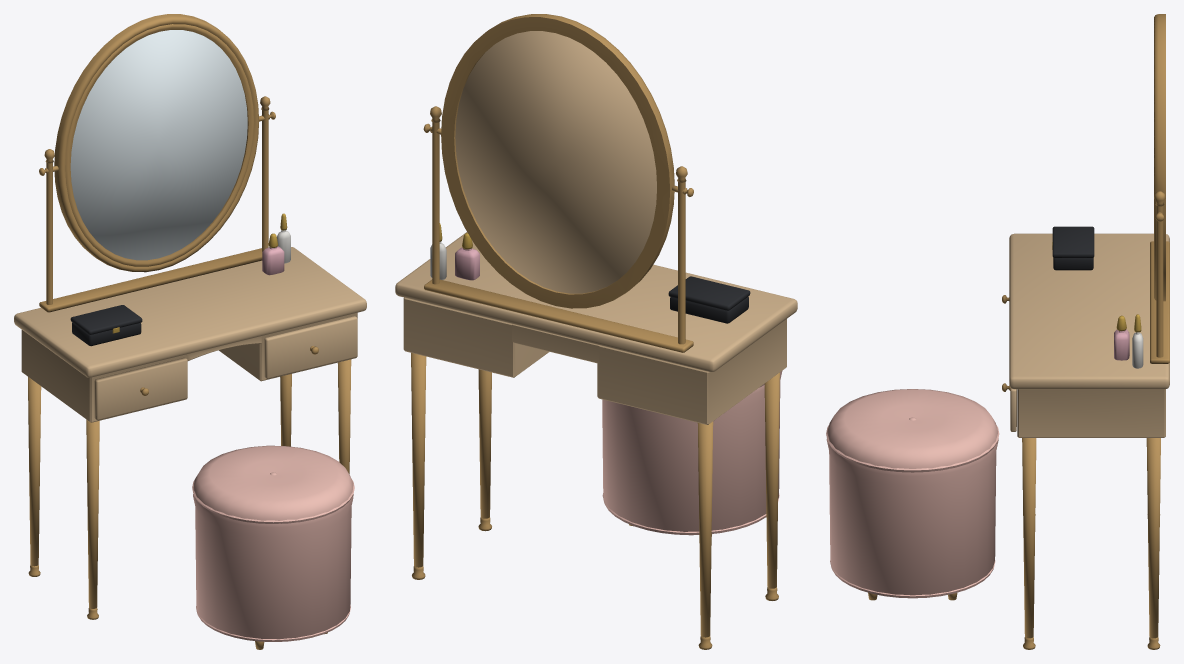
The model's file is dressingTable.glb.
3 views of the same model, side by side, from view 1: azimuth 30°, elevation 25°; view 2: azimuth 150°, elevation 25°; view 3: azimuth 270°, elevation 25° (orthographic). The views are drawn at different scales.
Parts seen in each view (by area): view 1: body, drawer; view 2: body; view 3: body.
Part boxes in pixels (x1=…): body: x1=14, y1=14, x2=366, y2=649; drawer: x1=264, y1=316, x2=357, y2=378; body: x1=395, y1=14, x2=797, y2=649; body: x1=826, y1=14, x2=1169, y2=649.
Bounding box in the file's own units: 0.86 × 1.53 × 0.8557.
